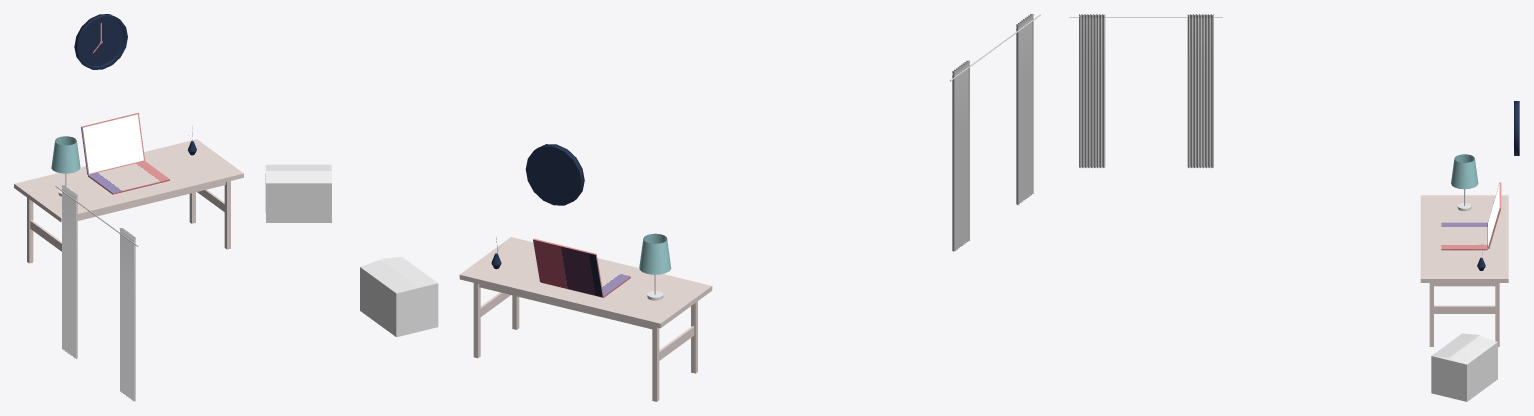
Rendered from DreamRoom.gltf.
3 renders of one model, left to right at view 1: azimuth 30°, elevation 25°; view 2: azimuth 150°, elevation 25°; view 3: azimuth 270°, elevation 25°, orthographic. The views are drawn at different scales.
Parts seen in each view (by area): view 1: Cube, Curtains, Laptop, Box, Clock, Cylinder.001; view 2: Cube, Curtains, Box, Laptop, Clock, Cylinder.001; view 3: Curtains, Cube, Box, Laptop, Cylinder.001.
Part boxes in pixels (x1,y1,x2,y2): Cube: [14, 139, 243, 263]; Curtains: [61, 185, 135, 401]; Laptop: [81, 113, 169, 194]; Box: [265, 164, 331, 222]; Clock: [74, 14, 127, 69]; Cylinder.001: [51, 136, 80, 196]; Cube: [459, 237, 712, 401]; Curtains: [952, 14, 1033, 251]; Box: [360, 256, 438, 337]; Laptop: [533, 238, 630, 297]; Clock: [525, 144, 584, 205]; Cylinder.001: [639, 233, 671, 300]; Curtains: [1079, 14, 1213, 168]; Cube: [1420, 195, 1508, 346]; Box: [1431, 333, 1497, 401]; Laptop: [1441, 182, 1501, 250]; Cylinder.001: [1451, 154, 1478, 211].
Size of the model in its own units: 4 by 2.06 by 4.1.
Materials: 5 (2 with a texture image).
